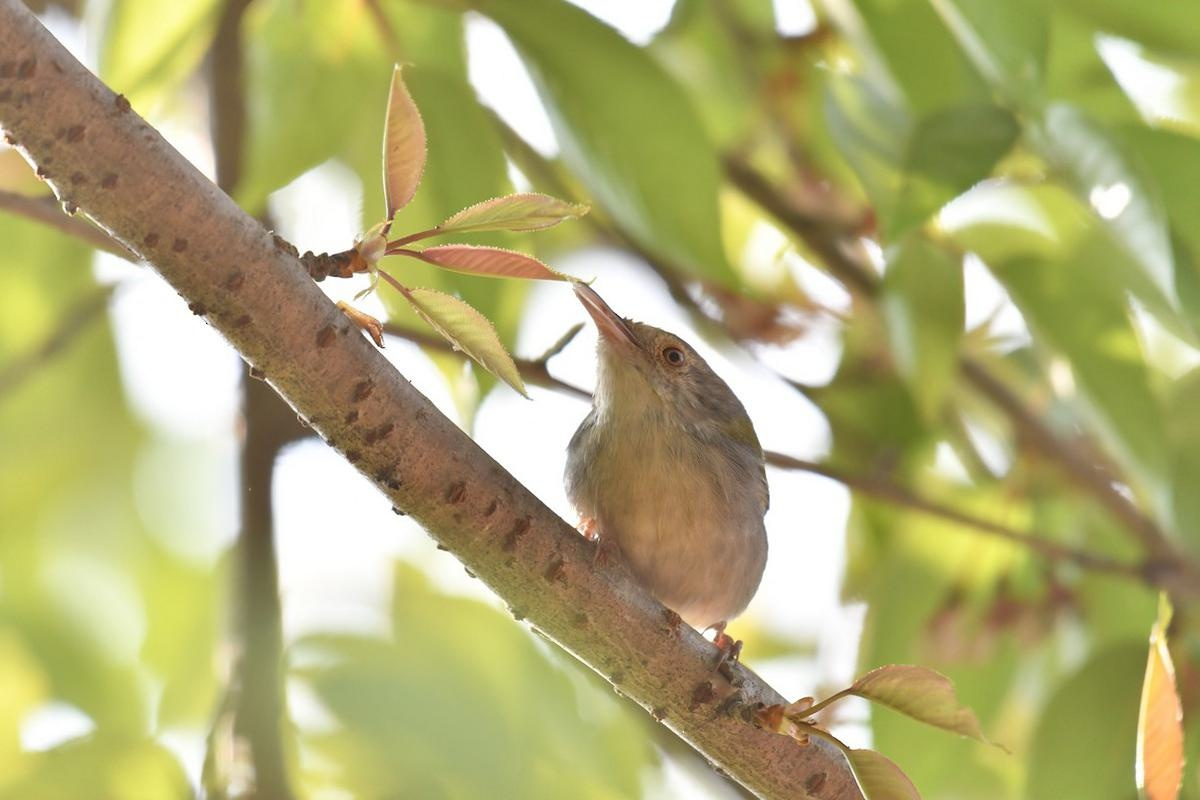tailorbird: (525, 255, 823, 708)
